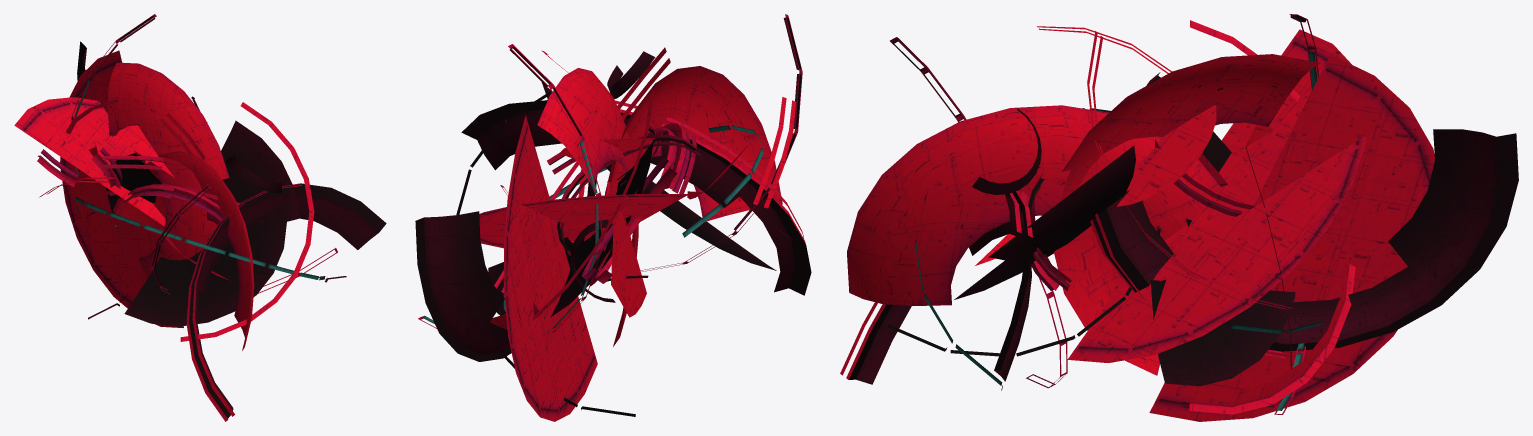
Rendered from MonsterB_Die8.obj.
3 views of the same model, side by side, from view 1: azimuth 30°, elevation 25°; view 2: azimuth 150°, elevation 25°; view 3: azimuth 270°, elevation 25° (orthographic). The views are drawn at different scales.
Visible parts, largest first — view 1: Sphere001; view 2: Sphere001; view 3: Sphere001.
Part boxes in pixels (x1,y1,x2,y2): Sphere001: (14, 14, 386, 421); Sphere001: (415, 14, 811, 421); Sphere001: (840, 14, 1518, 421).
Bounding box in the file's own units: 236 × 220 × 316.
Materials: 1 (1 with a texture image).
